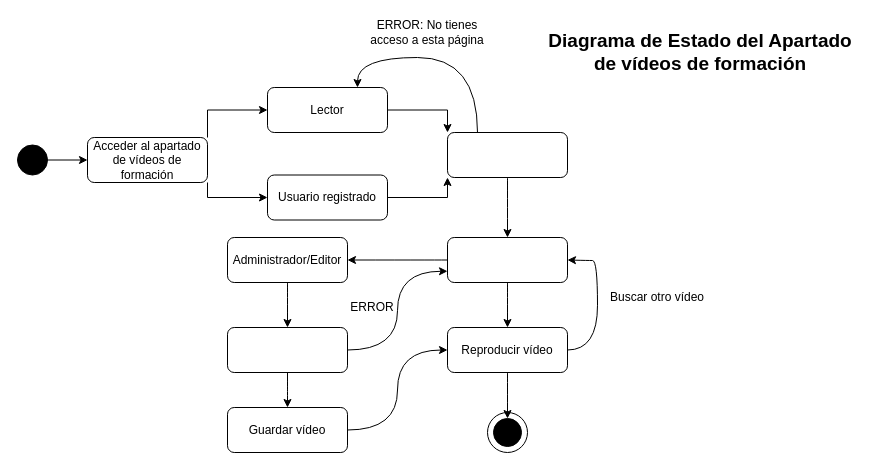
Image size: 871x470. Some labels were removed from this diagram. The centre of each missing label's shape, as x and y in pixels:
"Acceder a la página" belongs at (507,155).
"Buscar vídeo" belongs at (507,259).
"Editar vídeo" belongs at (287,349).
